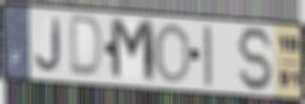D: (68, 13, 106, 81)
I: (201, 23, 215, 88)
J: (34, 16, 63, 73)
M: (108, 15, 158, 86)
O: (153, 21, 192, 86)
S: (236, 25, 276, 94)
